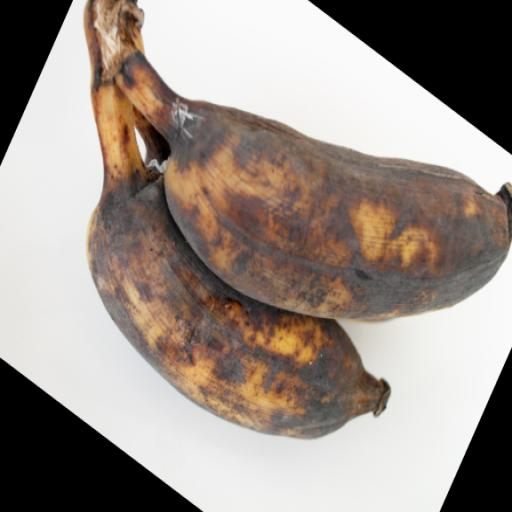banana-overripe: (53, 0, 512, 465)
